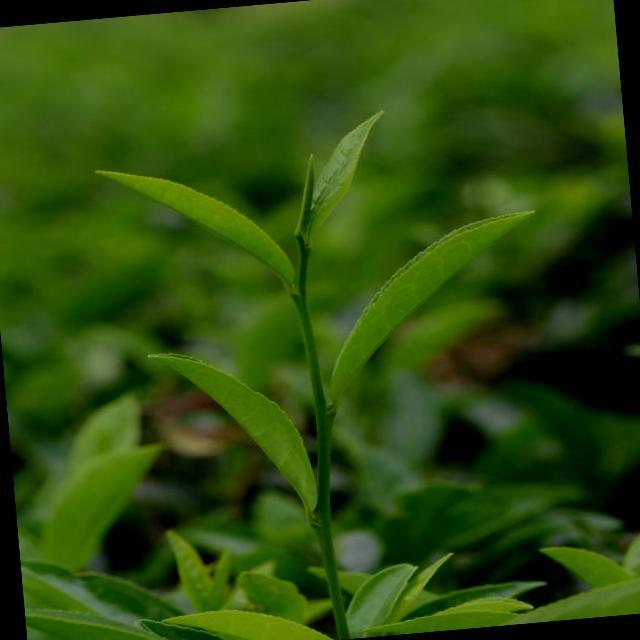Stem: (293, 293, 305, 307)
